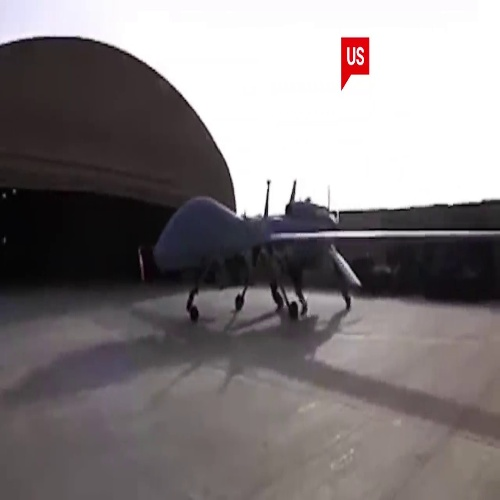uav453: (166, 176, 500, 327)
